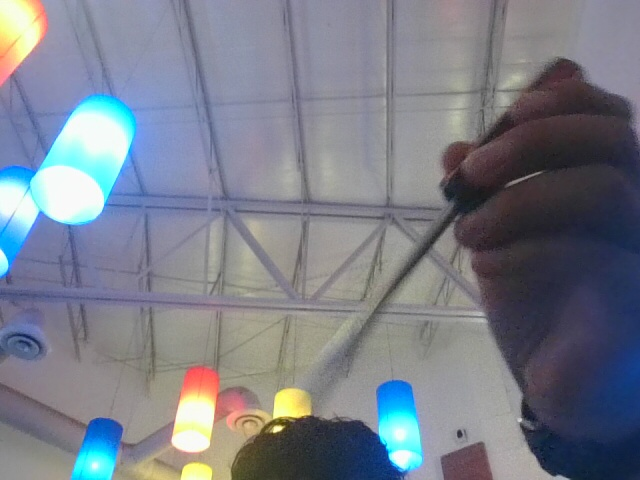destornillador: (303, 87, 562, 403)
